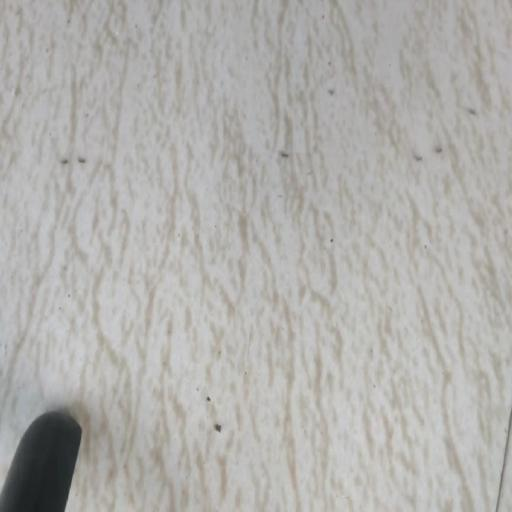Ant-Traffic: (453, 94, 488, 152), (402, 122, 428, 196), (274, 126, 296, 210), (431, 121, 449, 195), (52, 133, 73, 193), (74, 142, 97, 186)
